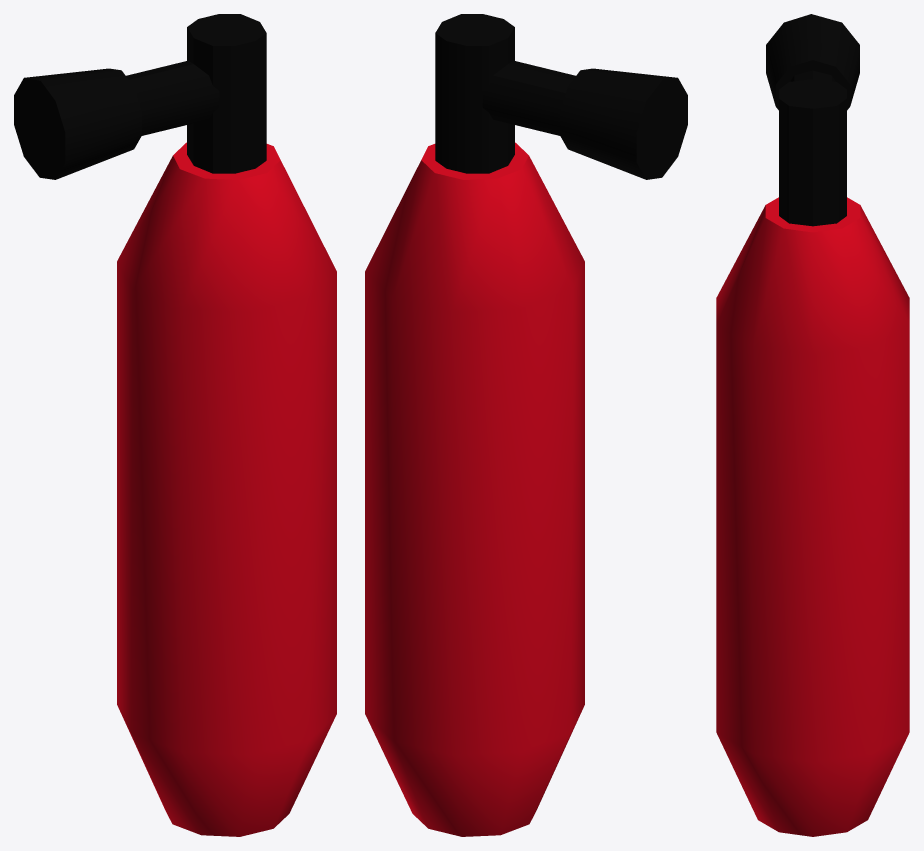
File: extincteur.fbx
3 renders of one model, left to right at view 1: azimuth 30°, elevation 25°; view 2: azimuth 150°, elevation 25°; view 3: azimuth 270°, elevation 25°, orthographic. The views are drawn at different scales.
Parts seen in each view (by area): view 1: Bidon, Bidon1; view 2: Bidon, Bidon1; view 3: Bidon, Bidon1.
Boxes of the visible parts, x1,y1,x2,y2 form: Bidon: (117, 14, 336, 836); Bidon1: (14, 60, 219, 179); Bidon: (365, 14, 584, 836); Bidon1: (482, 60, 687, 179); Bidon: (716, 79, 909, 836); Bidon1: (766, 14, 859, 110).
Size of the model in its own units: 46.48 by 123 by 29.93.
